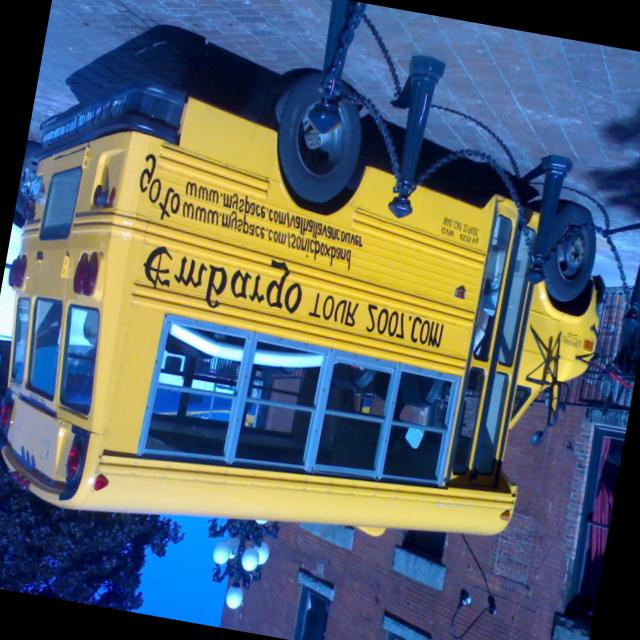bus: (0, 25, 634, 594)
